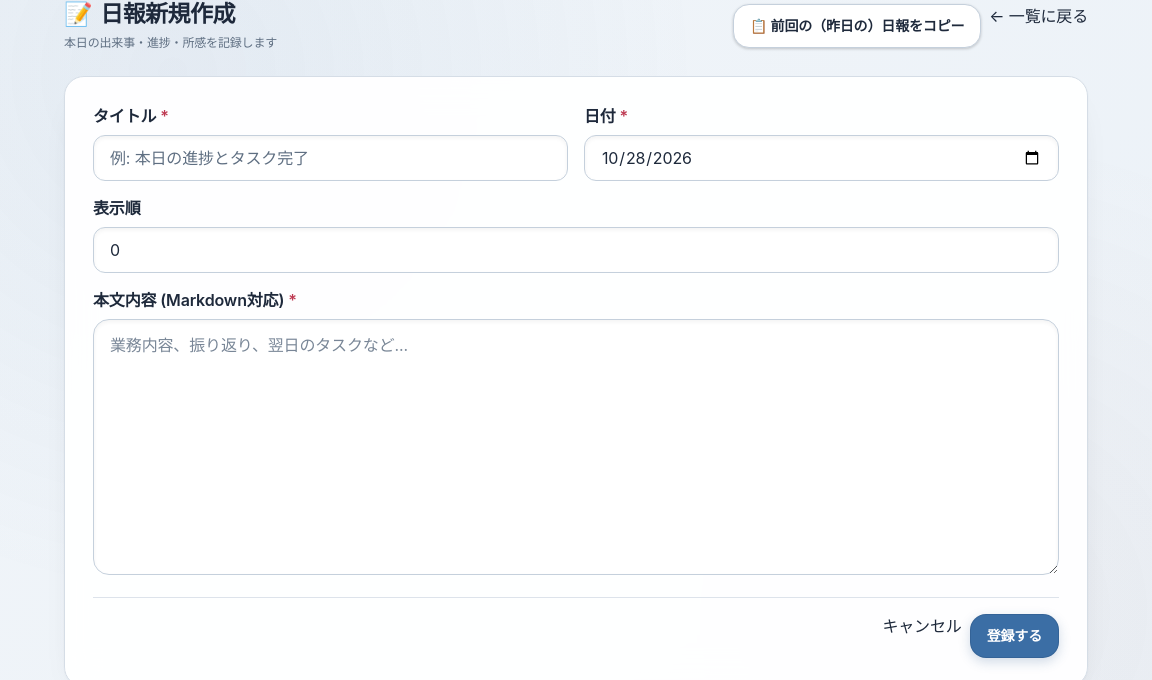
Test case: NewDiaryPage Copy Functionality › fetches latest diary and populates form when copy button is clicked
This screenshot has width=1152, height=680.
Click the button "📋 前回の（昨日の）日報をコピー". click: (857, 26)
box: [733,4,981,48]
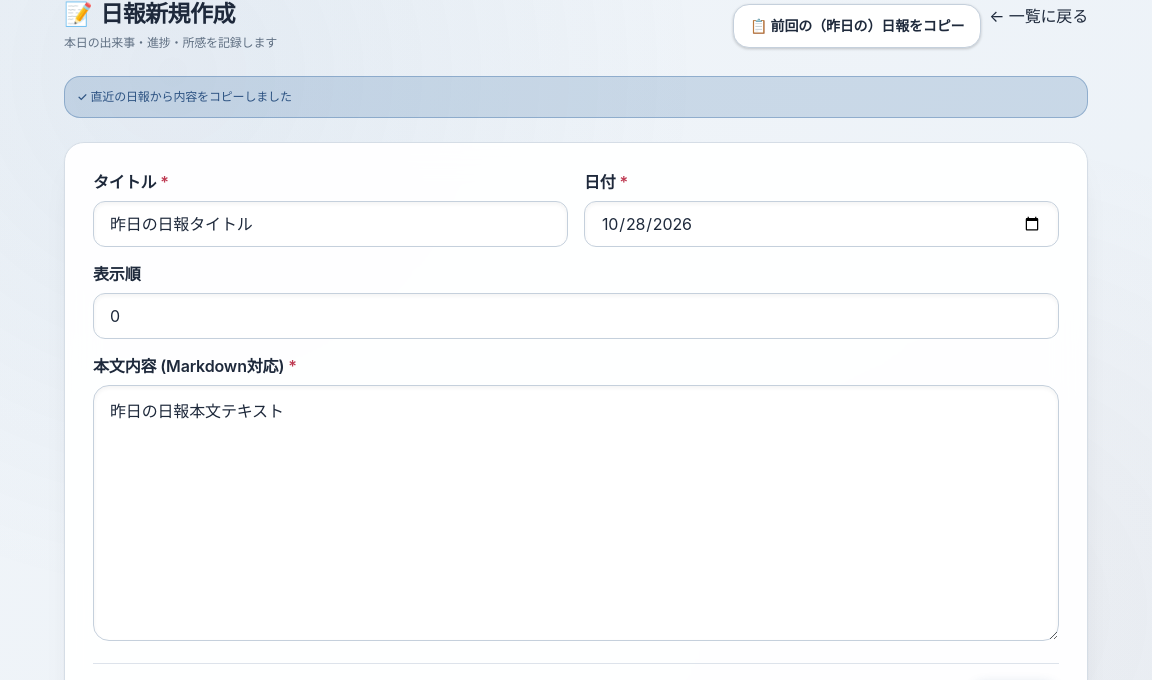
Check: the field labelled "タイトル *" holds "昨日の日報タイトル", box [93,201,568,247]
Check: the text box labelled "本文内容 (Markdown対応) *" holds "昨日の日報本文テキスト", box [93,385,1059,641]
Check: the text "✓ 直近の日報から内容をコピーしました" is shown, box [64,76,1088,118]
